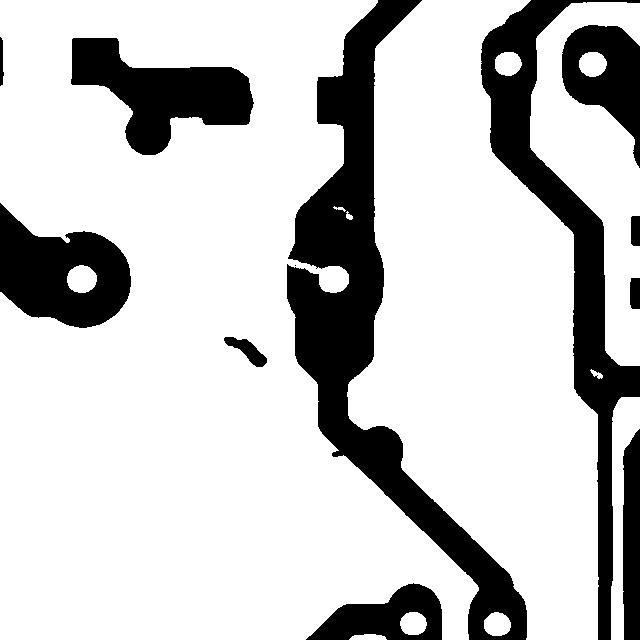copper: (214, 327, 276, 376)
mousebite: (49, 222, 79, 252)
open: (270, 248, 336, 283)
pin-hole: (323, 196, 362, 229), (580, 359, 612, 388)
spur: (322, 440, 355, 466)
